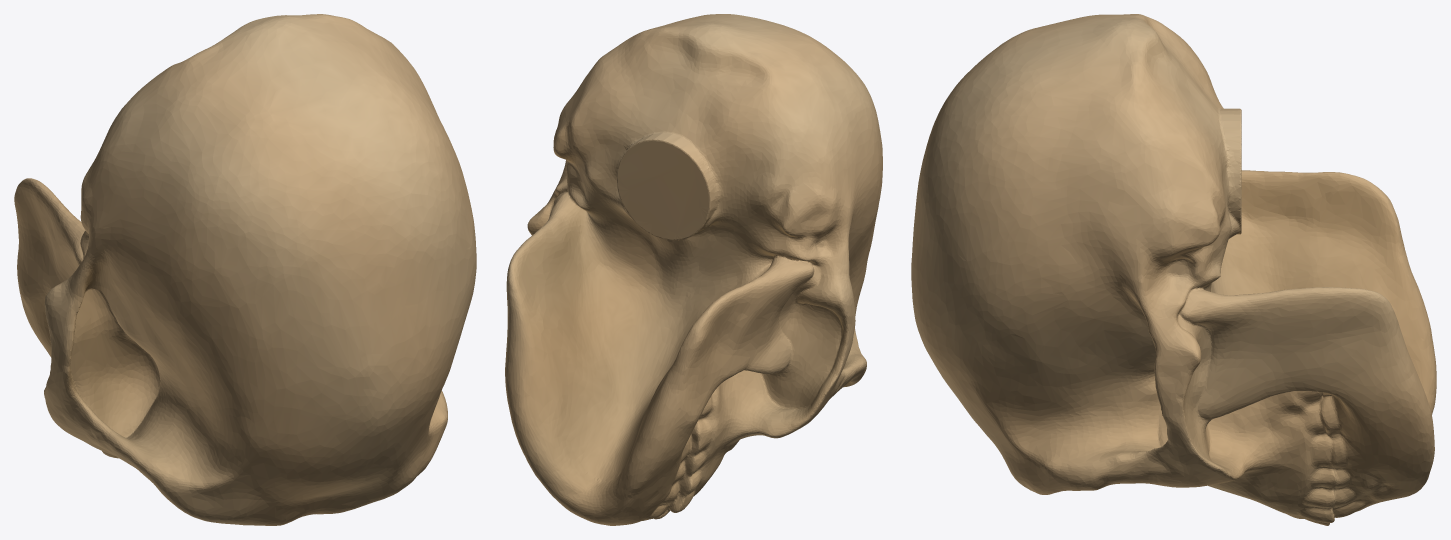
The model's file is habilis.glb.
The picture shows the model from 3 angles, left to right: view 1: azimuth 30°, elevation 25°; view 2: azimuth 150°, elevation 25°; view 3: azimuth 270°, elevation 25°; orthographic projection. The views are drawn at different scales.
Size of the model in its own units: 31.74 by 40.87 by 39.65.
